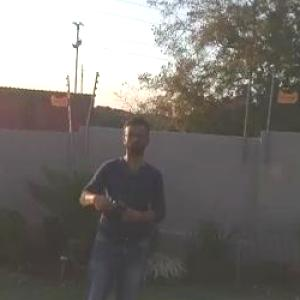follow: (72, 107, 174, 299)
